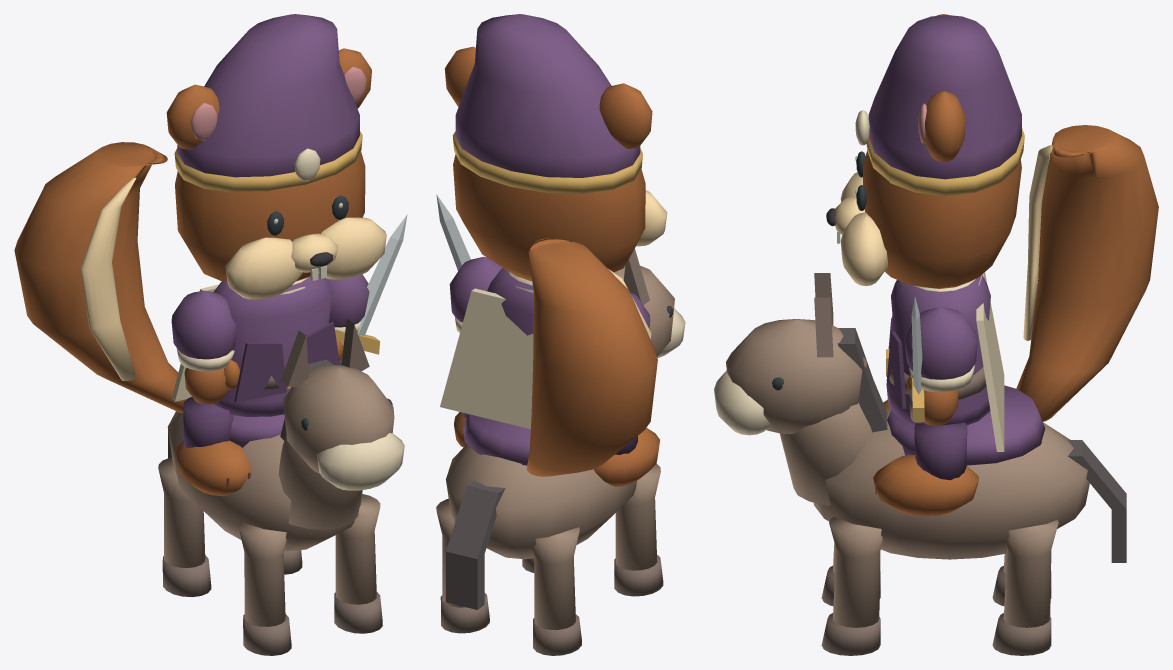
The model's file is rider.glb.
3 views of the same model, side by side, from view 1: azimuth 30°, elevation 25°; view 2: azimuth 150°, elevation 25°; view 3: azimuth 270°, elevation 25° (orthographic). The views are drawn at different scales.
Parts seen in each view (by area): view 1: Squirrel large curled tail, Folded Persian tiara, Animal cheek head, Pony head, Plump pony body, Short folded tunic, Squirrel pale tail sweep, Pony neck, Pony stubby leg, Pony stubby leg.001, Puff sleeve, Squirrel plump cheek (+23 smaller); view 2: Squirrel large curled tail, Folded Persian tiara, Animal cheek head, Plump pony body, Persian shoulder drape, Pony tail, Pony stubby leg.002, Pony stubby leg, Tiara gold band, Squirrel rounded ear, Saddle blanket, Soft animal paw (+12 smaller); view 3: Squirrel large curled tail, Plump pony body, Folded Persian tiara, Animal cheek head, Pony head, Pony neck, Short folded tunic, Pony stubby leg.001, Pony stubby leg.003, Saddle blanket, Soft animal paw.001, Puff sleeve.001 (+16 smaller).
Part boxes in pixels (x1,y1,x2,y2): Squirrel large curled tail: (14,142,186,413); Folded Persian tiara: (177,14,359,177); Animal cheek head: (175,152,365,281); Pony head: (283,364,394,473); Plump pony body: (167,411,362,551); Short folded tunic: (213,273,333,416); Squirrel pale tail sweep: (80,177,136,381); Pony neck: (278,435,361,529); Pony stubby leg: (238,521,286,626); Pony stubby leg.001: (335,494,380,604); Puff sleeve: (171,290,236,359); Squirrel plump cheek: (225,237,302,299); Squirrel large curled tail: (527,238,657,476); Folded Persian tiara: (455,14,640,177); Animal cheek head: (453,154,645,281); Plump pony body: (446,444,636,559); Persian shoulder drape: (440,288,533,429); Pony tail: (446,480,505,609); Pony stubby leg.002: (532,527,579,629); Pony stubby leg: (615,463,660,570); Tiara gold band: (452,131,642,193); Squirrel rounded ear: (599,83,652,148); Saddle blanket: (463,414,530,465); Soft animal paw: (593,427,659,486); Squirrel large curled tail: (1016,125,1158,421); Plump pony body: (813,408,1089,559); Folded Persian tiara: (868,15,1021,179); Animal cheek head: (863,150,1021,288); Pony head: (726,319,867,434); Pony neck: (779,402,872,505); Short folded tunic: (886,275,990,425); Pony stubby leg.001: (829,517,882,627); Pony stubby leg.003: (1003,520,1058,627); Saddle blanket: (887,385,1045,465); Soft animal paw.001: (873,455,979,516); Puff sleeve.001: (904,307,977,379).
Bounding box in the file's own units: 1.25 × 2.28 × 1.51.
